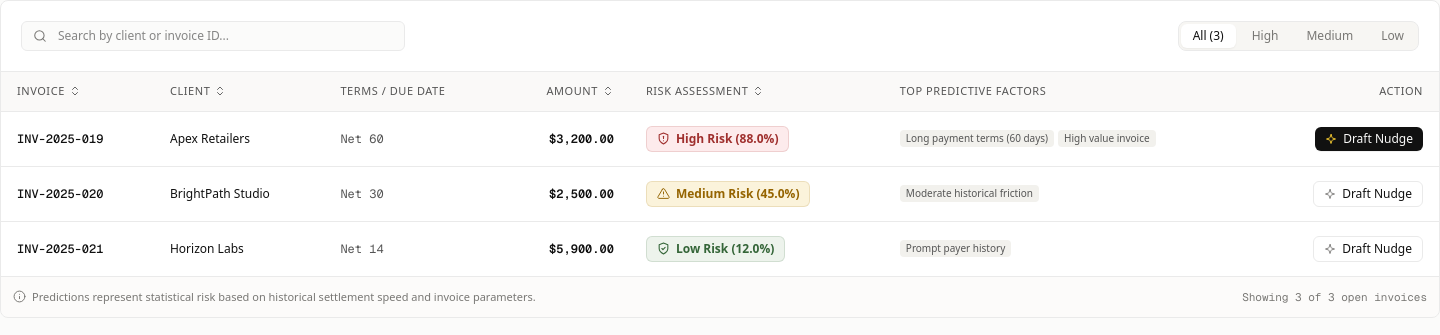
Test: InvoiceTable › filters invoices based on search query
The width and height of the screenshot is (1440, 335).
Type "Apex" into the field with placeholder "Search by client or invoice ID..." at (213, 36), box [21,21,405,51]
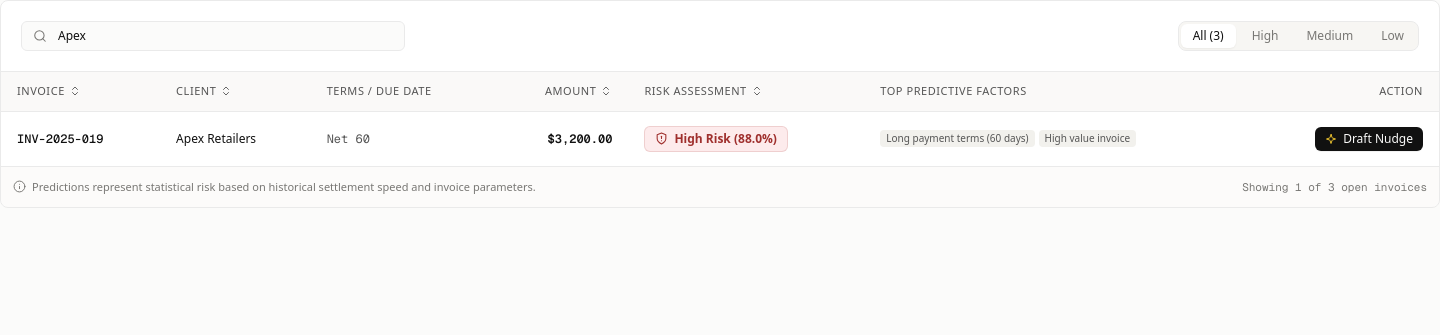
Expected: the text "Apex Retailers" is shown, [176,130,256,147]
Expected: the text "BrightPath Studio" is gone
